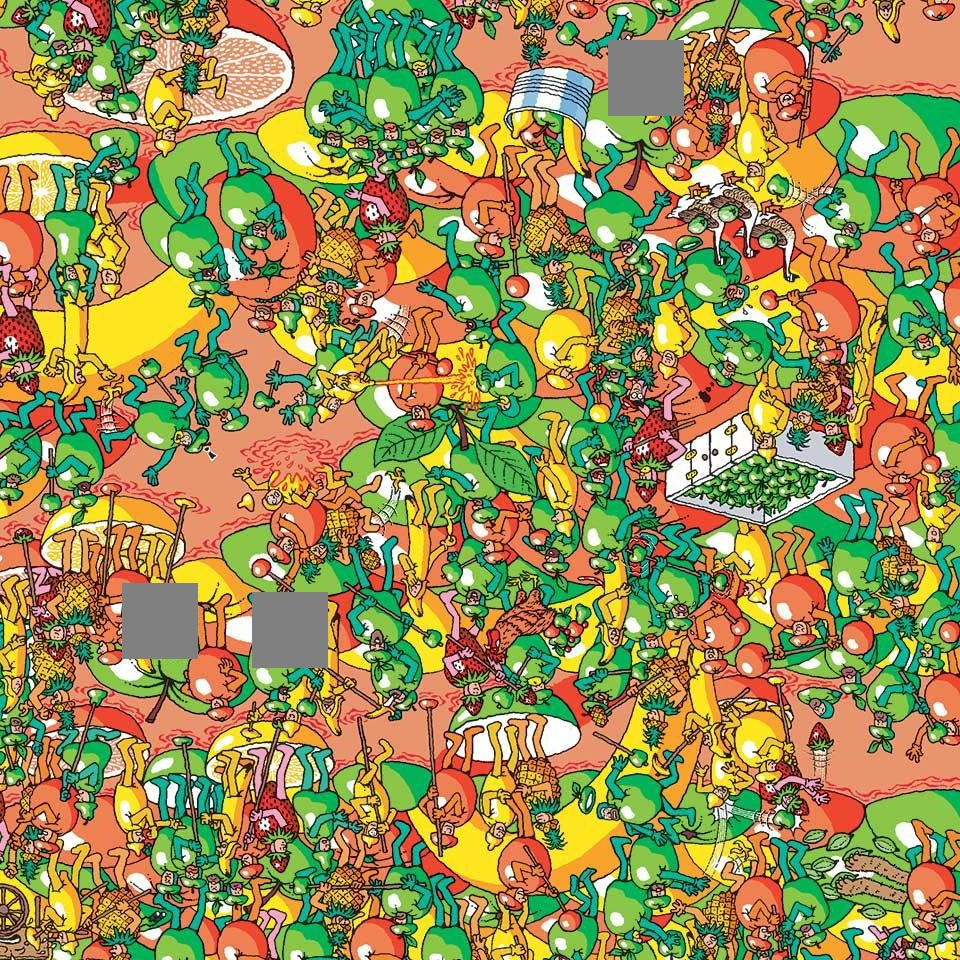waldo: (620, 382, 646, 411)
